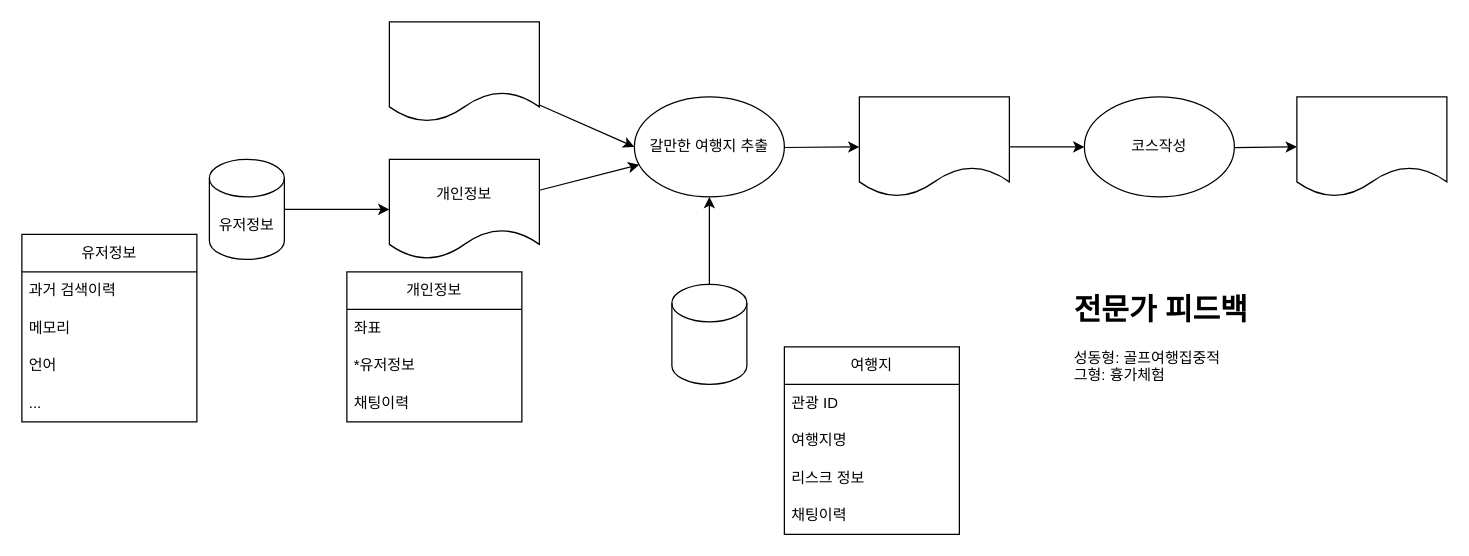
This 1469x556 diagram has some shape labels left out. The shapes that lost their labels are listed below. From the top down, each one's centre as x and y in pixels, then its label:
At point (463, 71): "프롬프트".
At point (933, 146): "갈만한여행지".
At point (1371, 146): "코스".
At point (709, 333): "여행지DB".
